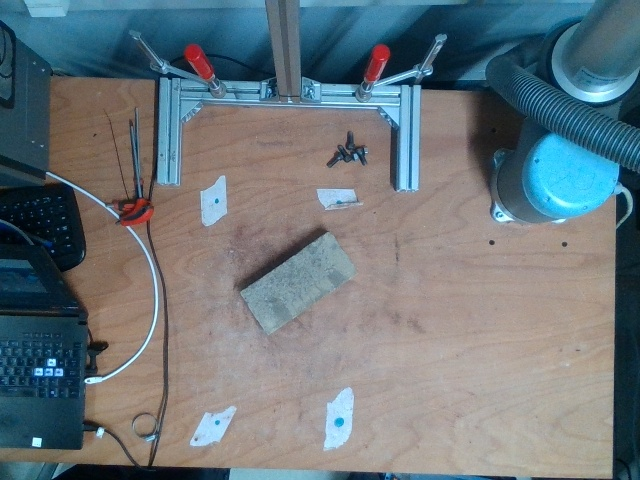brick: (241, 233, 356, 333)
